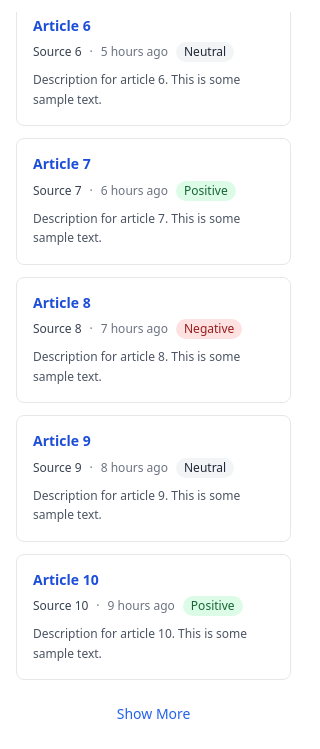
Test: MarketInsightsPanel › loads remaining articles when 'Show More' is clicked
(page scrolled)
Click the button "Show More" at point(154, 714), box x1=16 y1=696 x2=291 y2=732
(page scrolled)
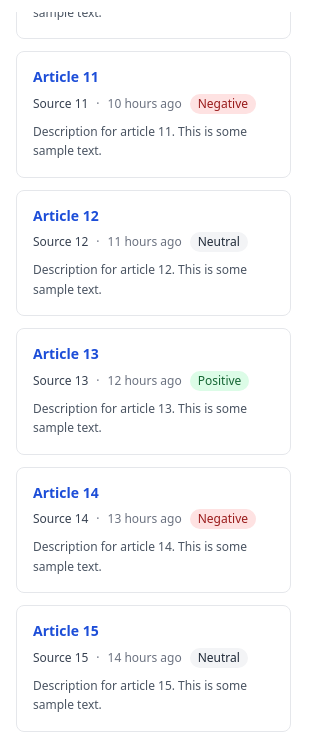
Check: the link "Article 11" is shown, box x1=33 y1=67 x2=99 y2=86
Check: the link "Article 15" is shown, box x1=33 y1=621 x2=99 y2=640
Check: the button "Show More" is gone
